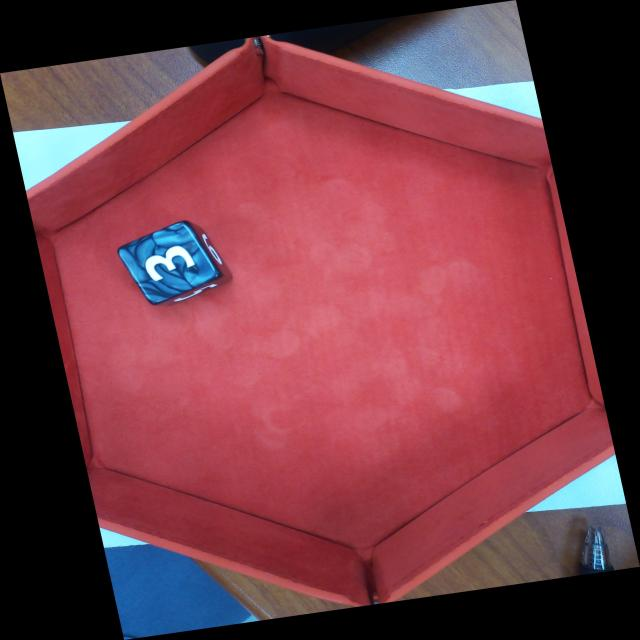dice: (117, 221, 223, 302)
